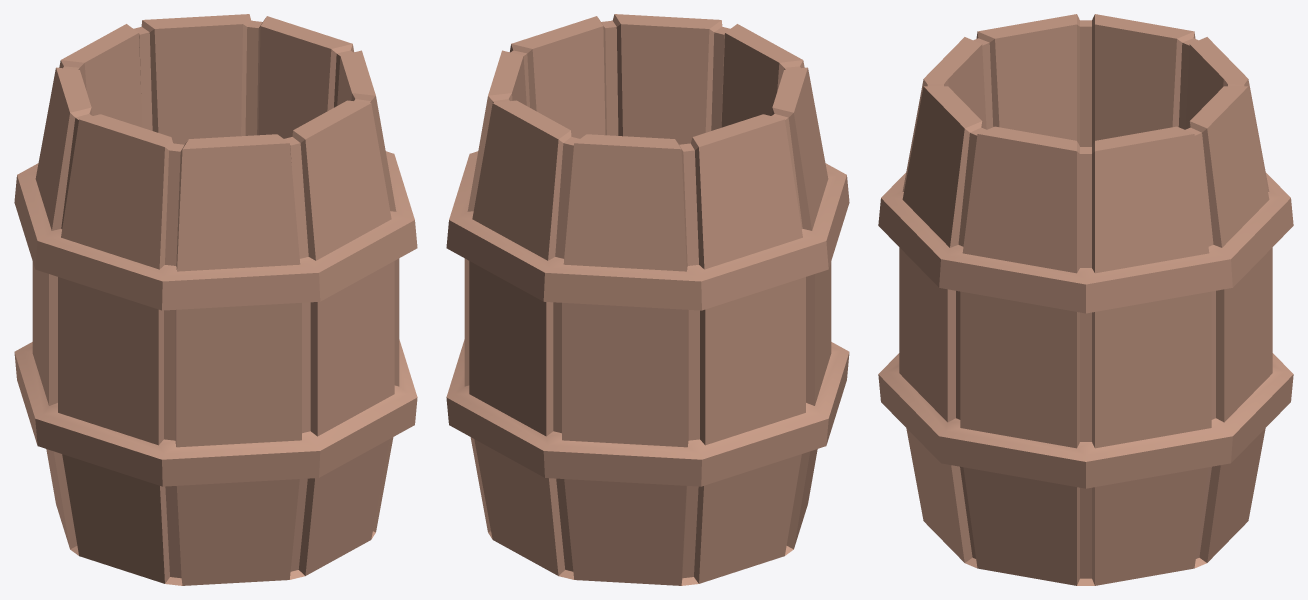
The model's file is a_z2_barrel_s.fbx.
3 views of the same model, side by side, from view 1: azimuth 30°, elevation 25°; view 2: azimuth 150°, elevation 25°; view 3: azimuth 270°, elevation 25° (orthographic).
Parts seen in each view (by area): view 1: a_z2_barrel_s; view 2: a_z2_barrel_s; view 3: a_z2_barrel_s.
Part boxes in pixels (x1,y1,x2,y2): a_z2_barrel_s: (14, 14, 417, 585); a_z2_barrel_s: (446, 14, 849, 585); a_z2_barrel_s: (878, 14, 1293, 585).
Bounding box in the file's own units: 67.34 × 77.76 × 67.34.
